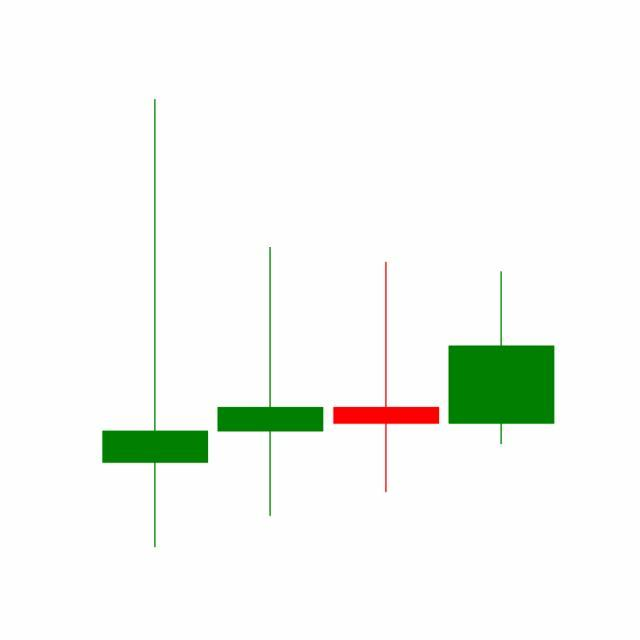Spinning Top: (329, 260, 445, 497)
